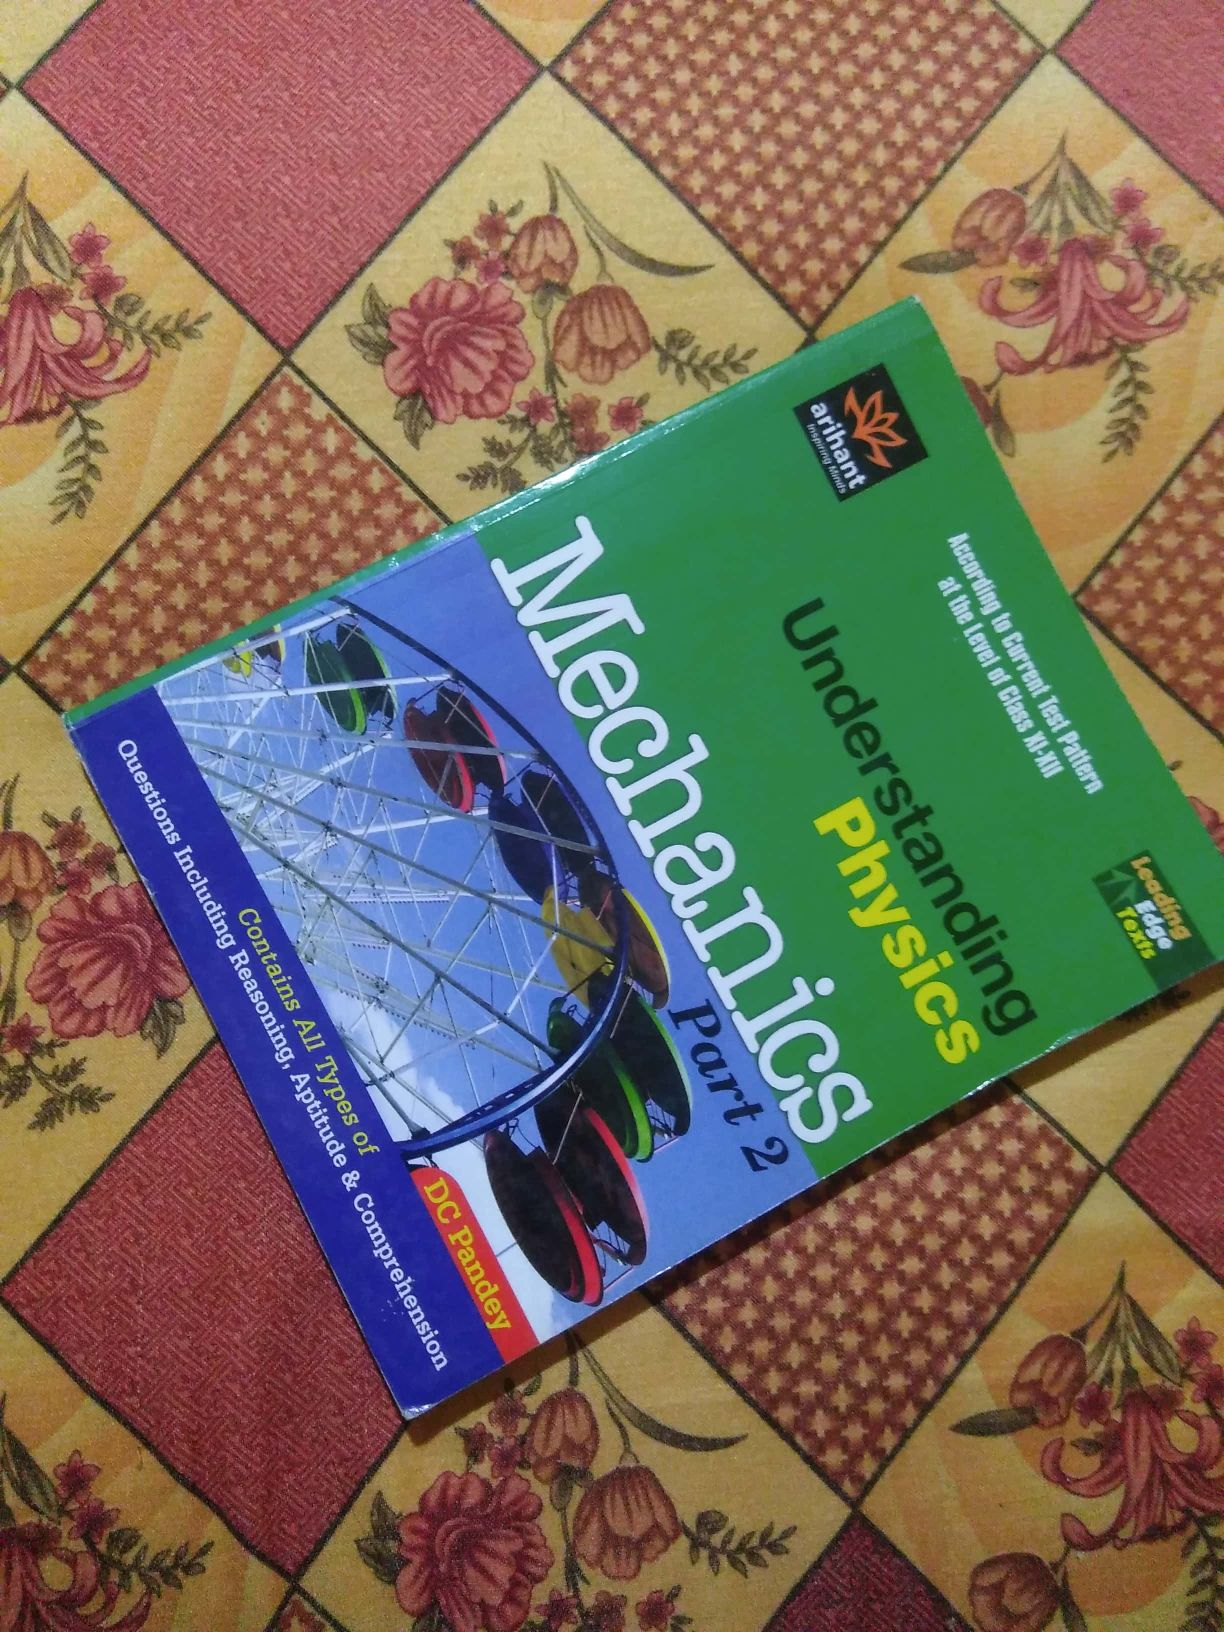mechanics: (138, 324, 1187, 1339)
